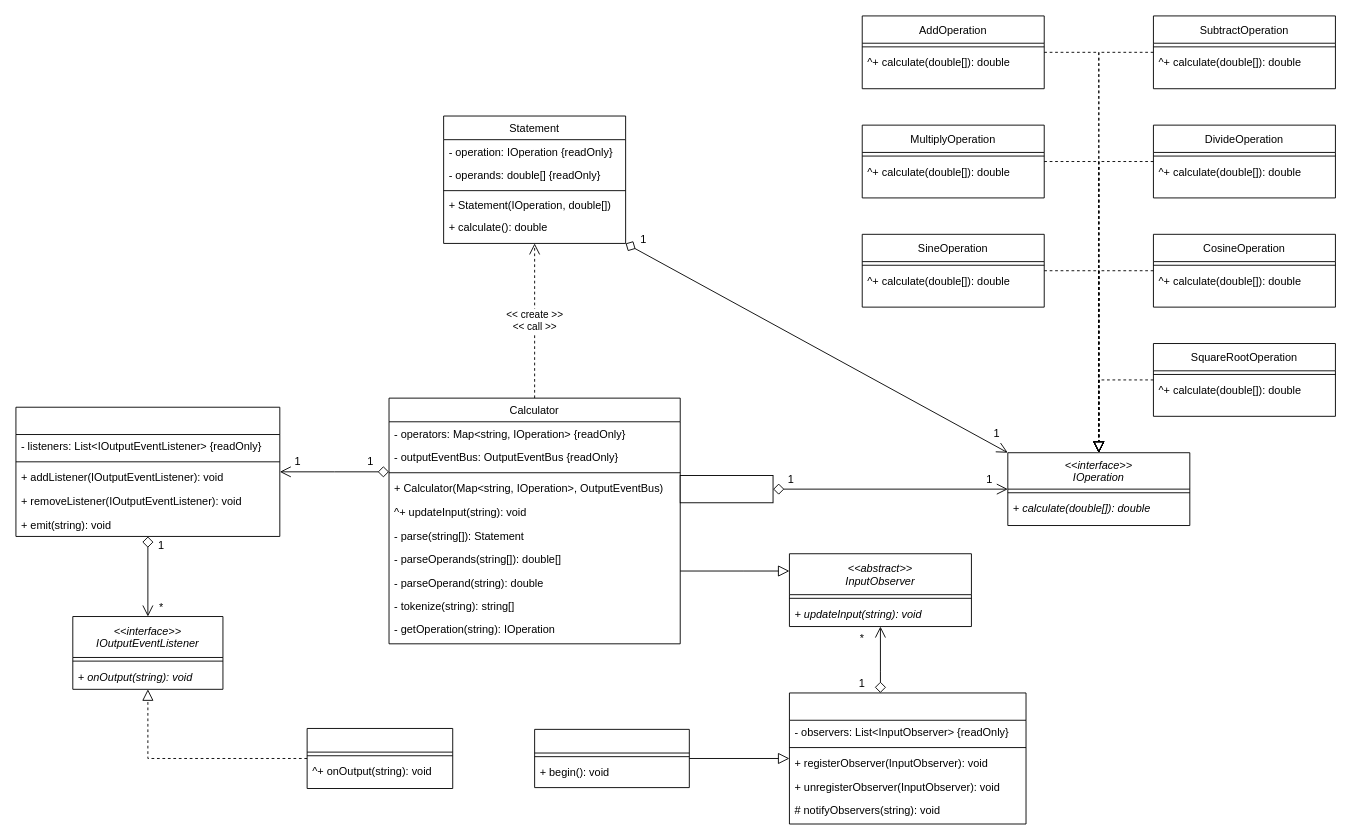
The diagram is 1351 pixels wide and 840 high, and some of its shapes have lost their labels. Each missing label, with the box of its shape:
ConsoleInputBroadcaster: (534, 728, 689, 788)
ConsoleOutputter: (306, 728, 453, 789)
InputSubject: (789, 692, 1026, 824)
operator: string: (679, 475, 773, 503)
OutputEventBus: (15, 406, 280, 536)
